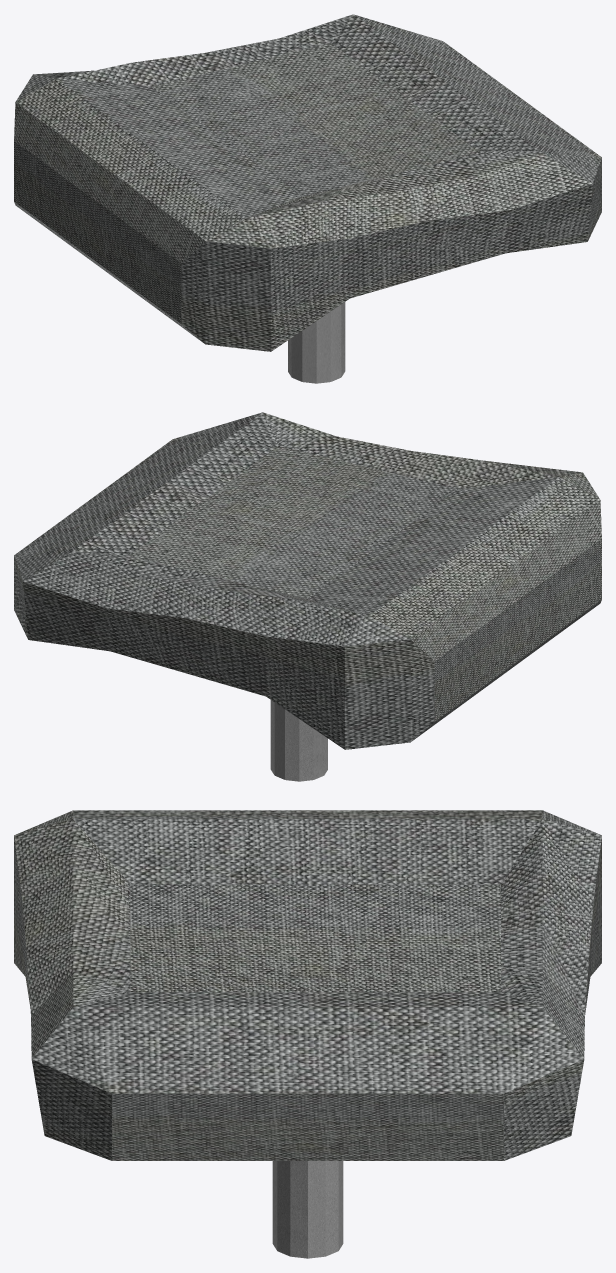
File: ChairSeat_1.fbx
3 renders of one model, top to bottom at view 1: azimuth 30°, elevation 25°; view 2: azimuth 150°, elevation 25°; view 3: azimuth 270°, elevation 25°, orthographic. The views are drawn at different scales.
Visible parts, largest first — view 1: ChairSeat_1; view 2: ChairSeat_1; view 3: ChairSeat_1.
Part boxes in pixels (x1,y1,x2,y2): ChairSeat_1: (14, 14, 601, 383); ChairSeat_1: (14, 412, 601, 781); ChairSeat_1: (14, 810, 601, 1258).
Size of the model in its own units: 24.41 by 41.24 by 40.
